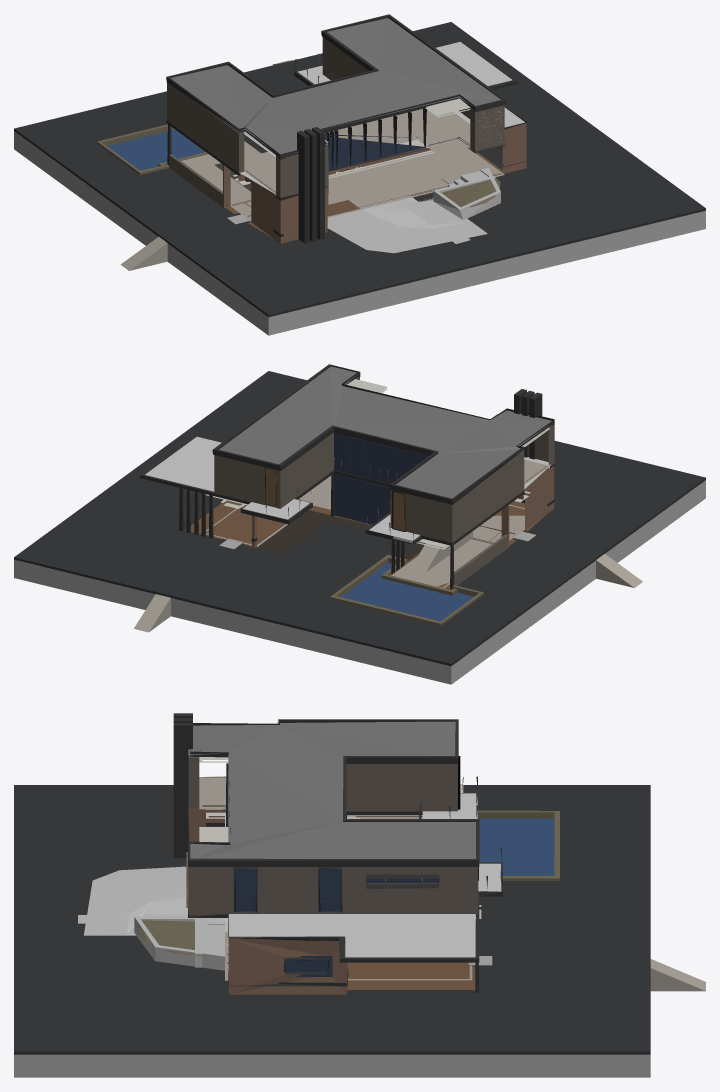
File: pool-villa.access-v14.lod1.glb
3 renders of one model, top to bottom at view 1: azimuth 30°, elevation 25°; view 2: azimuth 150°, elevation 25°; view 3: azimuth 270°, elevation 25°, orthographic. The views are drawn at different scales.
Parts seen in each view (by area): view 1: Box001_Material #8_0; view 2: Box001_Material #8_0; view 3: Box001_Material #8_0.
Part boxes in pixels (x1=…): Box001_Material #8_0: x1=14, y1=14, x2=705, y2=335; Box001_Material #8_0: x1=14, y1=364, x2=705, y2=684; Box001_Material #8_0: x1=14, y1=713, x2=705, y2=1077.
Bounding box in the file's own units: 37.75 × 9.63 × 38.05.
